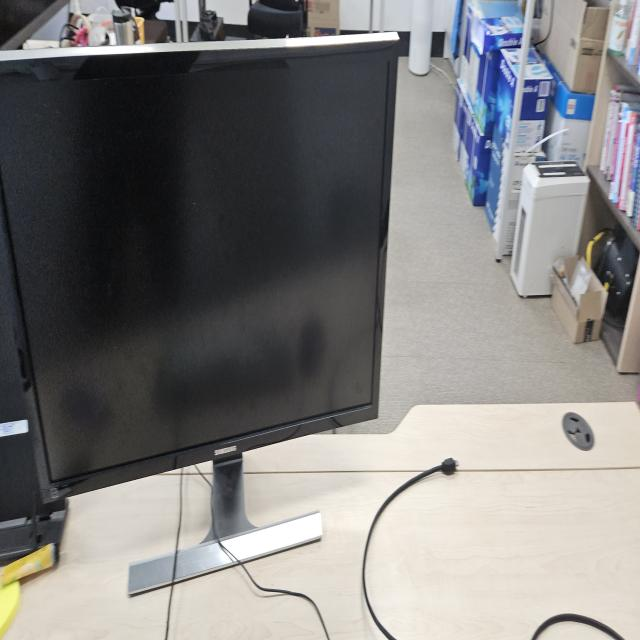Monitor: (1, 28, 402, 592)
